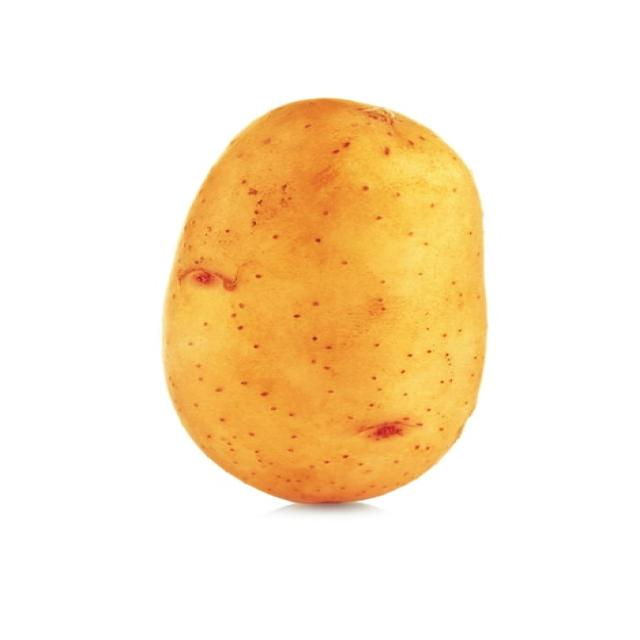Potato: (153, 94, 502, 516)
